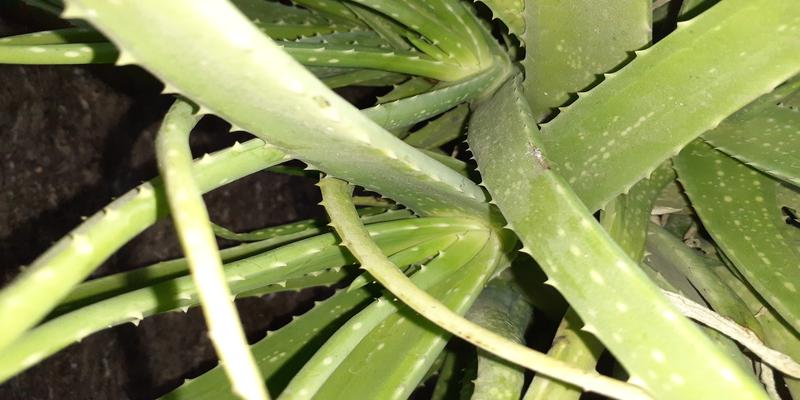Aloevera: (301, 24, 788, 375)
